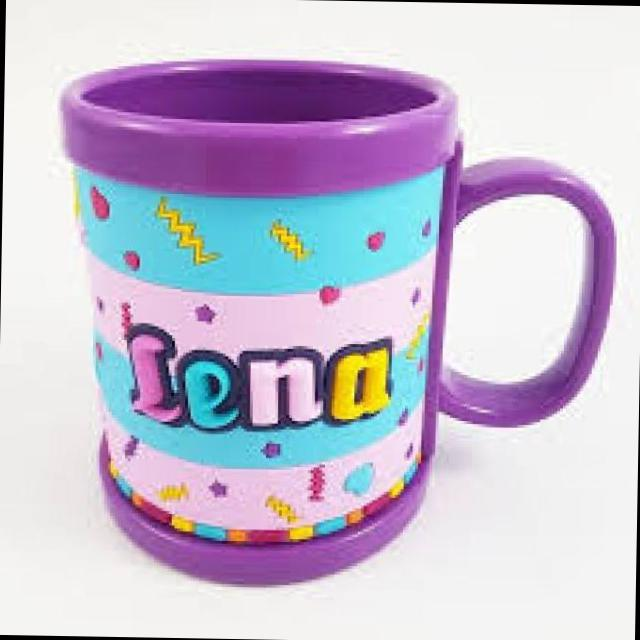Coffee Mug: (56, 55, 620, 600)
